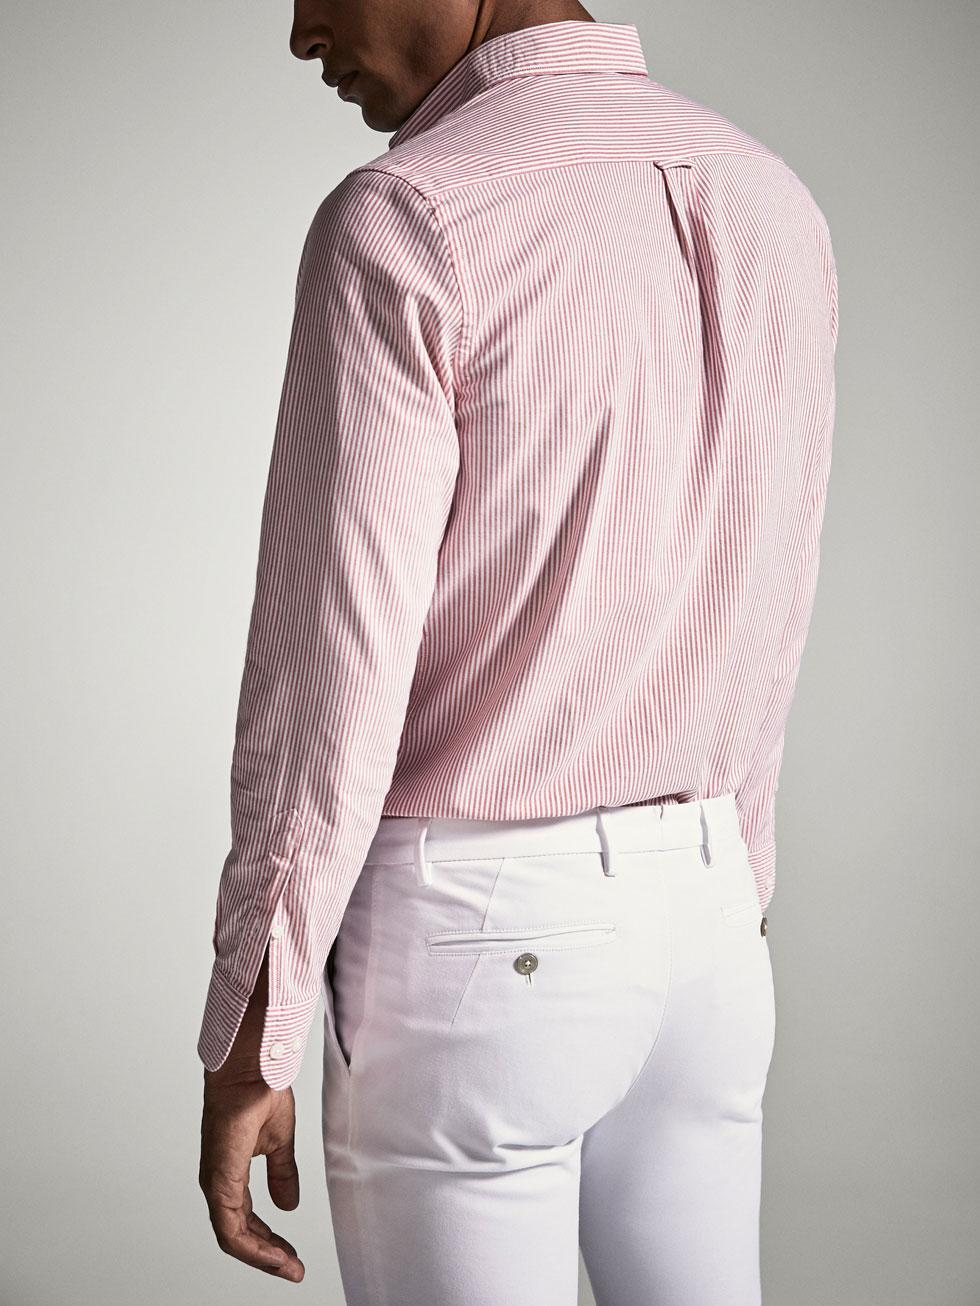teeshirt: (161, 21, 843, 1073)
